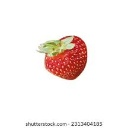strawberry: (37, 35, 89, 81)
